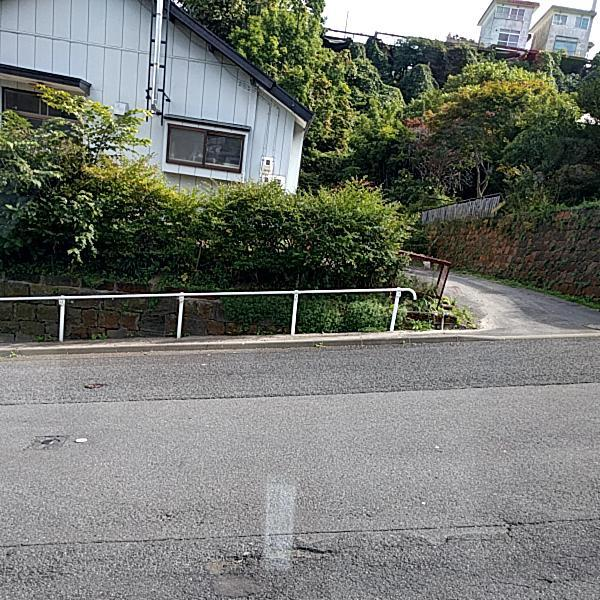D40: (240, 547, 352, 565), (199, 548, 266, 578)
D50: (80, 383, 104, 392)
